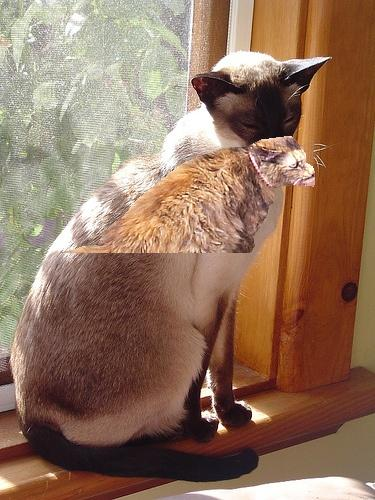tampered: (57, 137, 315, 253)
